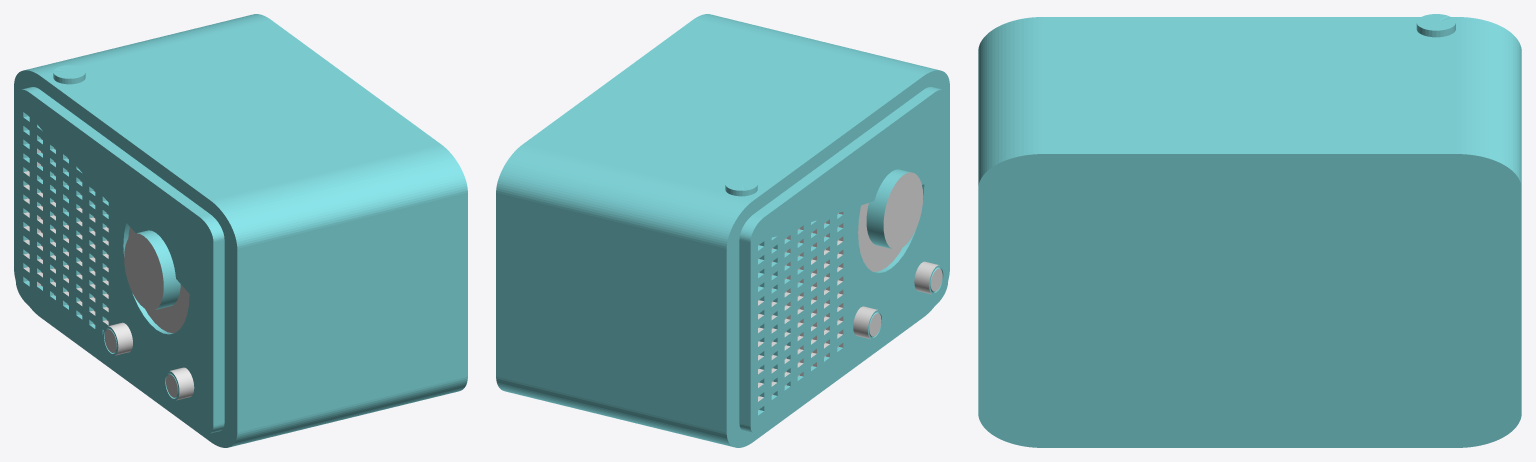
Rendered from RADIO.fbx.
3 views of the same model, side by side, from view 1: azimuth 30°, elevation 25°; view 2: azimuth 150°, elevation 25°; view 3: azimuth 270°, elevation 25° (orthographic). The views are drawn at different scales.
Parts seen in each view (by area): view 1: Cube.011; view 2: Cube.011; view 3: Cube.011.
Boxes of the visible parts, x1,y1,x2,y2 form: Cube.011: (14, 14, 467, 447); Cube.011: (496, 14, 949, 447); Cube.011: (978, 14, 1521, 447).
Bounding box in the file's own units: 223 × 205 × 335.
